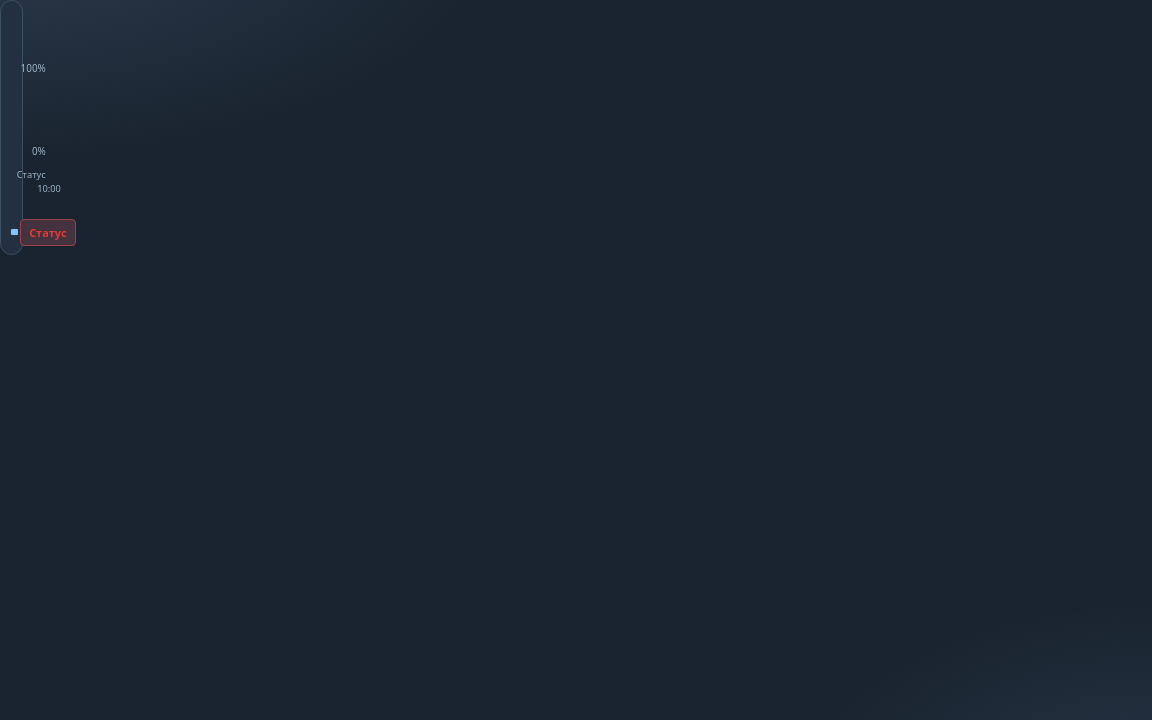
it: MachineTrend status modal › keeps status/comment controls out of the card until the foot button opens the modal
Click the button "Статус".
click(48, 232)  # box [20, 218, 76, 246]
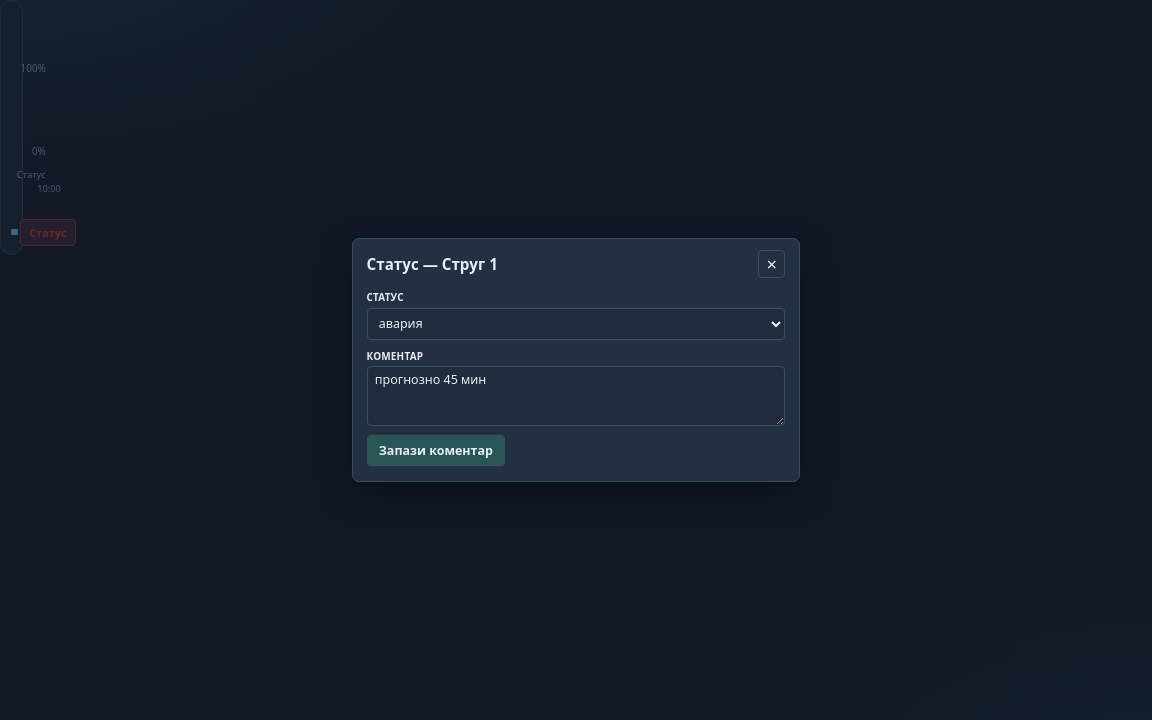
Expected: the dialog "Статус — Струг 1" is shown, [352, 238, 800, 482]
Expected: the dropdown named "Статус за Струг 1" shows "авария", [367, 308, 785, 340]
Expected: the text box named "Коментар за Струг 1" holds "прогнозно 45 мин", [367, 366, 785, 426]
